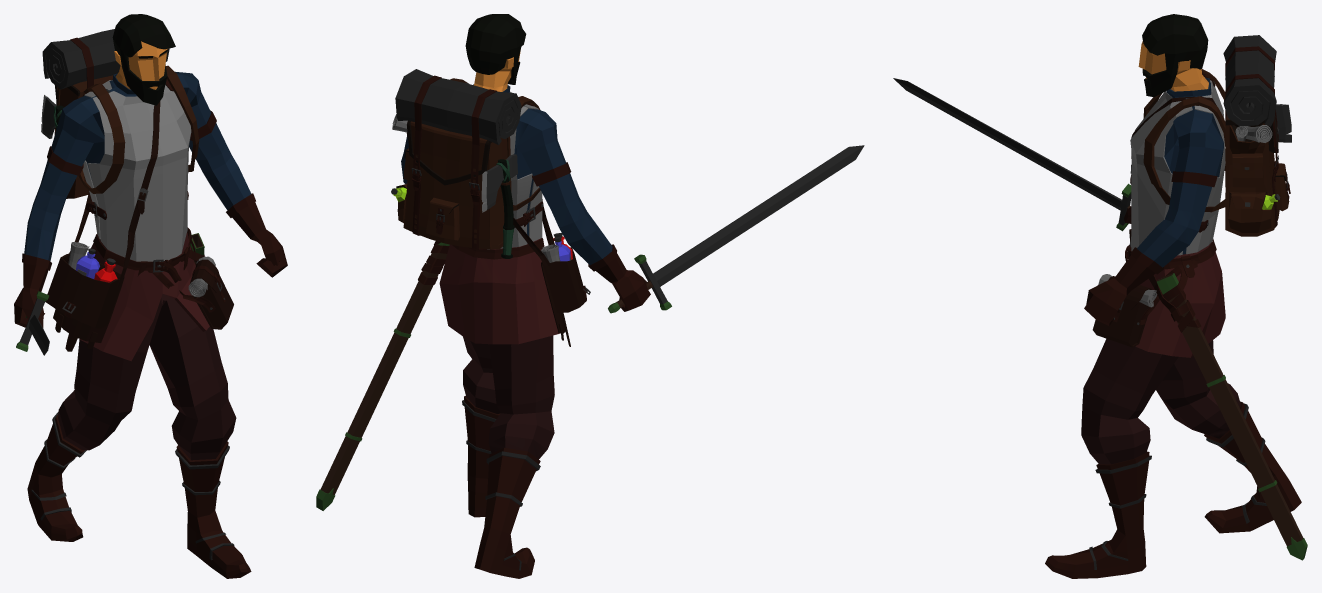
Rendered from adventurer.obj.
3 renders of one model, left to right at view 1: azimuth 30°, elevation 25°; view 2: azimuth 150°, elevation 25°; view 3: azimuth 270°, elevation 25°, orthographic. The views are drawn at different scales.
Visible parts, largest first — view 1: MainMesh, Backpack.001, Shoulder_bag, Hair/Beard, belt_bag, belt, Sword; view 2: MainMesh, Backpack.001, Sword, Sword-Sheet, Shoulder_bag, Hair/Beard, belt; view 3: MainMesh, Backpack.001, Sword-Sheet, Hair/Beard, Sword, belt_bag, belt.
Part boxes in pixels (x1,y1,x2,y2): MainMesh: (14, 41, 287, 578); Backpack.001: (41, 29, 199, 198); Shoulder_bag: (45, 101, 160, 351); Hair/Beard: (112, 14, 175, 105); belt_bag: (137, 235, 233, 329); belt: (93, 227, 205, 282); Sword: (16, 291, 49, 355); MainMesh: (401, 49, 650, 578); Backpack.001: (391, 69, 540, 258); Sword: (608, 145, 864, 313); Sword-Sheet: (316, 242, 449, 510); Shoulder_bag: (513, 199, 590, 346); Hair/Beard: (465, 14, 526, 84); belt: (418, 238, 544, 284); MainMesh: (1045, 41, 1301, 578); Backpack.001: (1143, 35, 1291, 236); Sword-Sheet: (1157, 273, 1307, 560); Hair/Beard: (1142, 14, 1208, 96); Sword: (893, 78, 1131, 231); belt_bag: (1092, 260, 1197, 347); belt: (1125, 239, 1216, 332).
Bounding box in the file's own units: 1.2 × 1.71 × 1.2.
